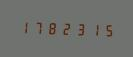eight: (45, 19, 58, 36)
five: (101, 21, 114, 38)
one: (87, 20, 100, 38), (17, 18, 30, 35)
seven: (31, 18, 44, 36)
three: (73, 20, 86, 37)
two: (59, 19, 72, 37)
